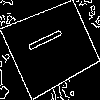I: (26, 22, 72, 54)
